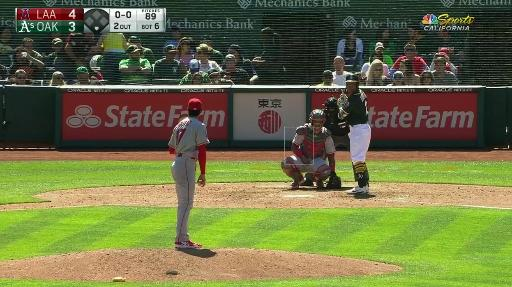pitcher: (169, 98, 210, 248)
